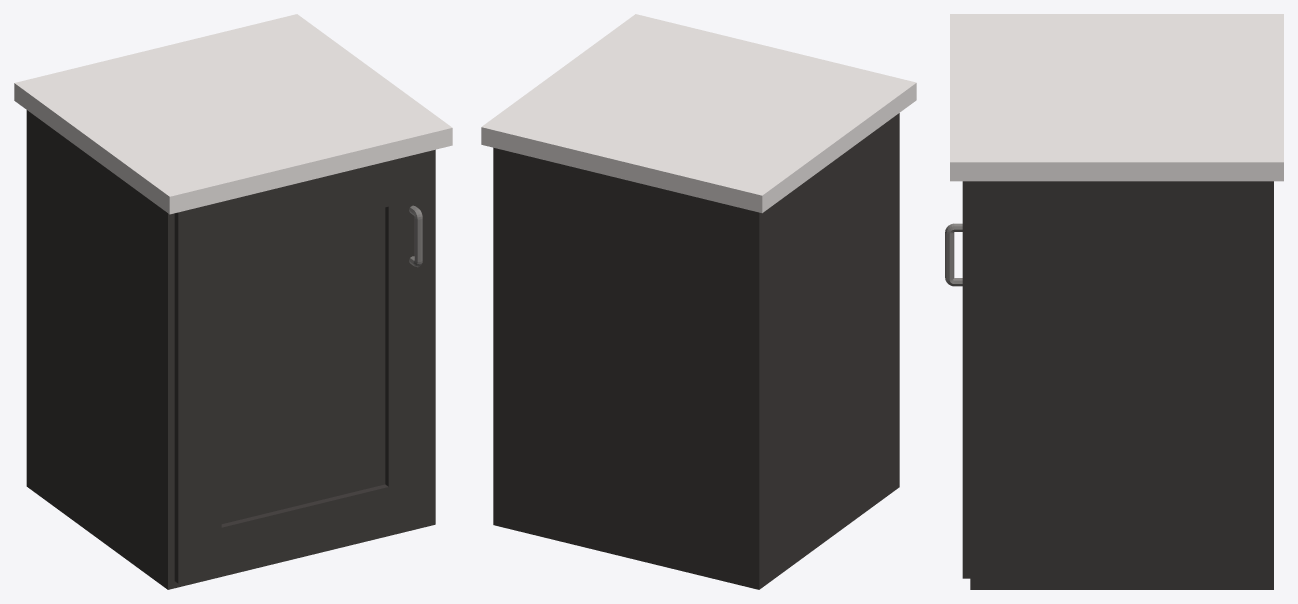
The model's file is Kitchen Tabletop_03.fbx.
3 renders of one model, left to right at view 1: azimuth 30°, elevation 25°; view 2: azimuth 150°, elevation 25°; view 3: azimuth 270°, elevation 25°, orthographic. The views are drawn at different scales.
Visible parts, largest first — view 1: Kitchen Tabletop_03; view 2: Kitchen Tabletop_03; view 3: Kitchen Tabletop_03.
Part boxes in pixels (<box>): Kitchen Tabletop_03: <box>14,14,452,589</box>; Kitchen Tabletop_03: <box>481,14,916,589</box>; Kitchen Tabletop_03: <box>945,14,1283,589</box>.
Size of the model in its own units: 65.58 by 89.05 by 63.31.
